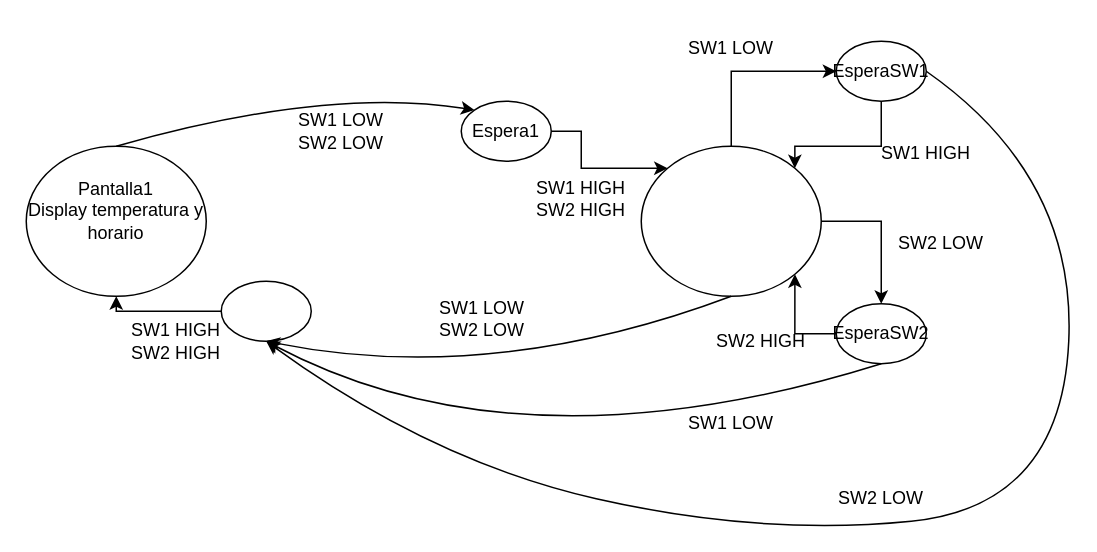
This 1097x552 diagram has some shape labels left out. Each missing label, with the centre of its shape:
Espera2: (x=265, y=310)
Pantalla2 configuración hora/minuto: (x=730, y=220)
